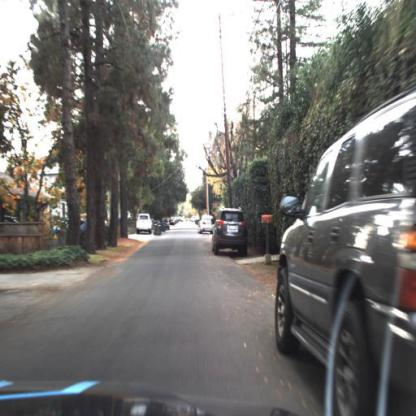car: (275, 87, 416, 416), (210, 207, 250, 256), (135, 212, 155, 237), (197, 212, 215, 237)
